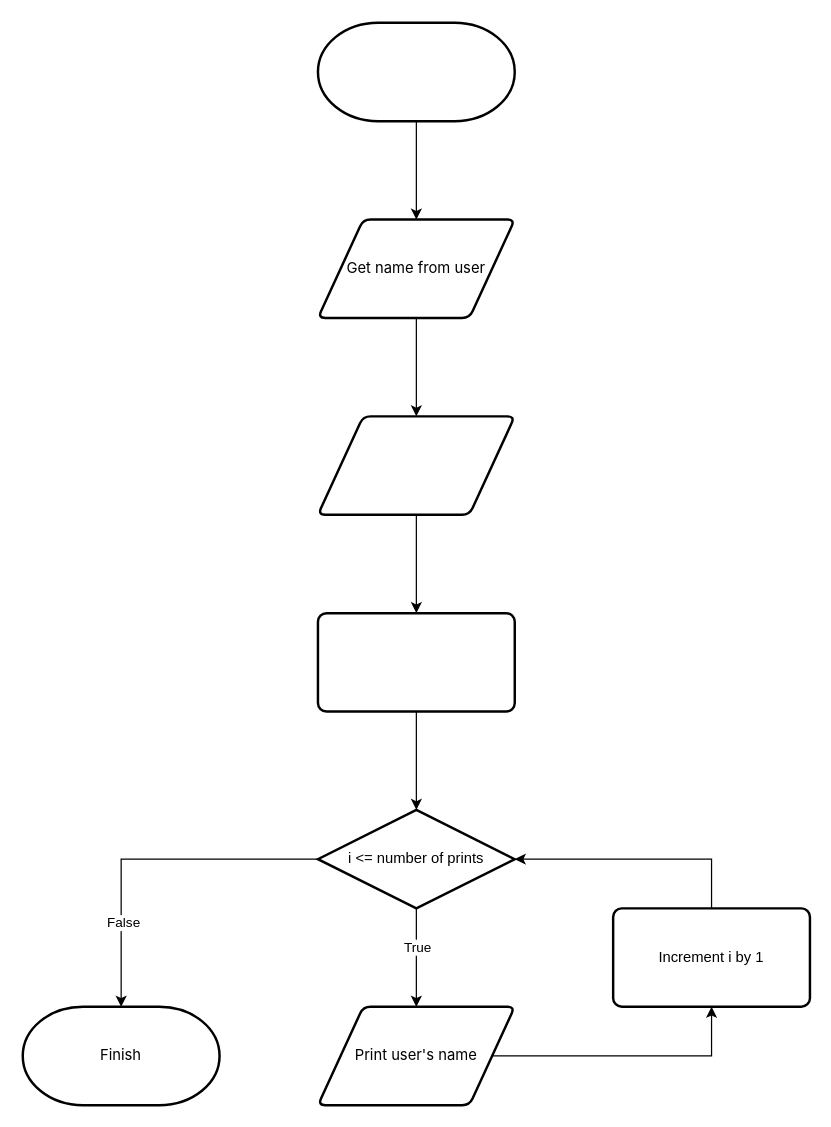
This 831x1127 diagram has some shape labels left out. The shapes that lost their labels are listed below. From the top down, each one's centre as x and y in pixels, then its label:
At point 415,71: "Start".
At point 415,465: "Get number of prints the user wants".
At point 415,661: "Set i=0".
